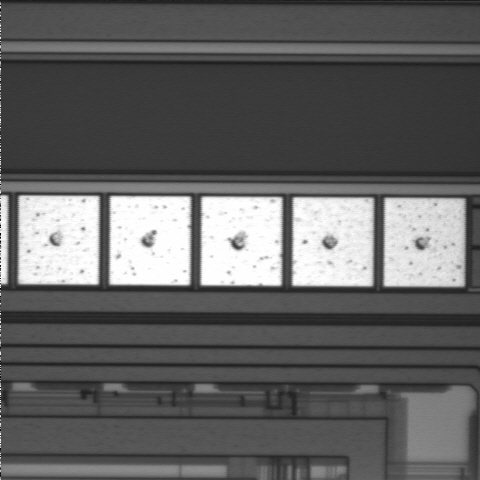pad: (18, 196, 99, 285), (110, 196, 191, 285), (201, 197, 282, 286), (292, 197, 373, 286), (384, 198, 465, 286)
